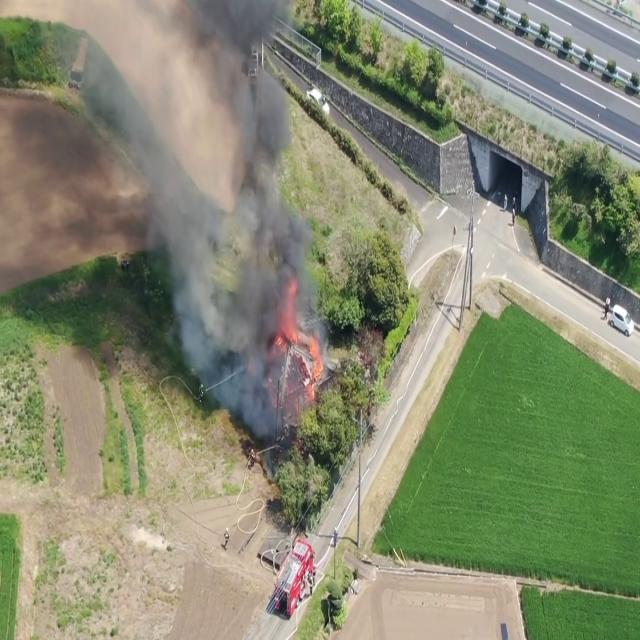Fire: (272, 290, 324, 394)
Smoke: (0, 0, 324, 412)
